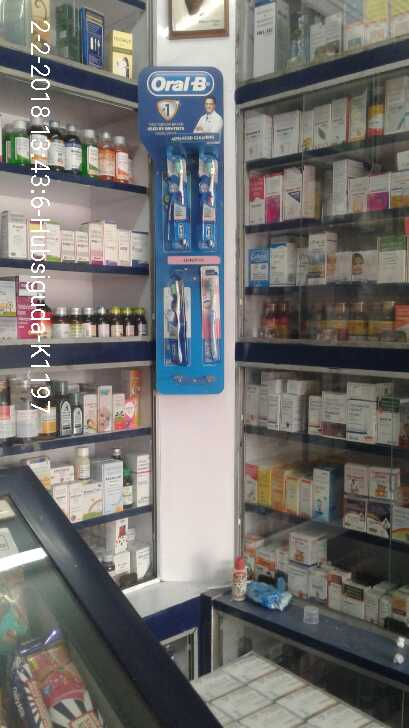oralb: (159, 268, 192, 370), (164, 141, 193, 253), (198, 139, 220, 248), (200, 265, 222, 366)
